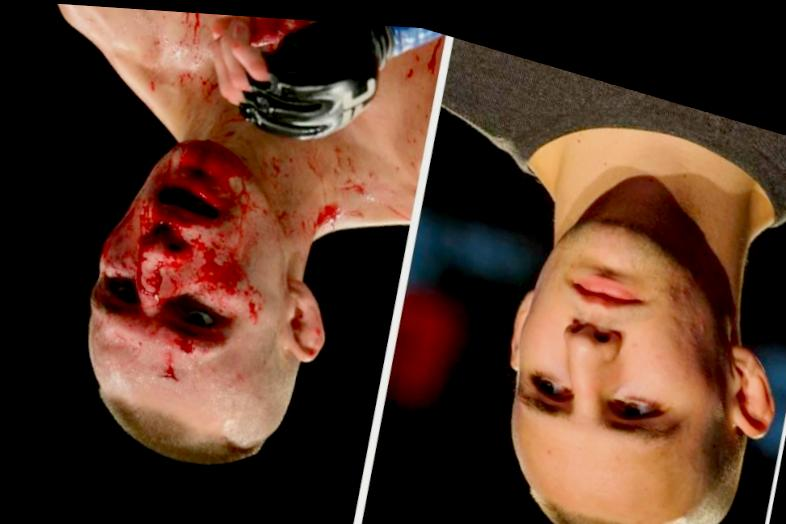Fire: (56, 3, 439, 382)
